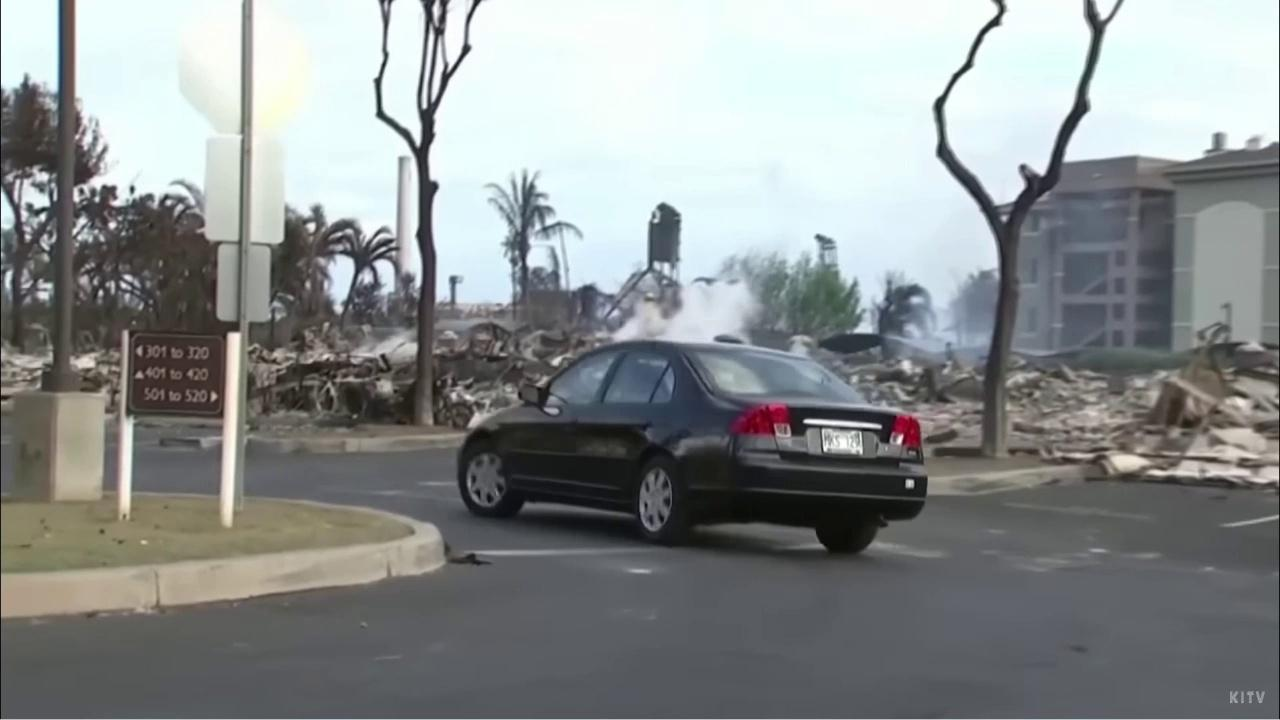smoke: (609, 276, 760, 341)
